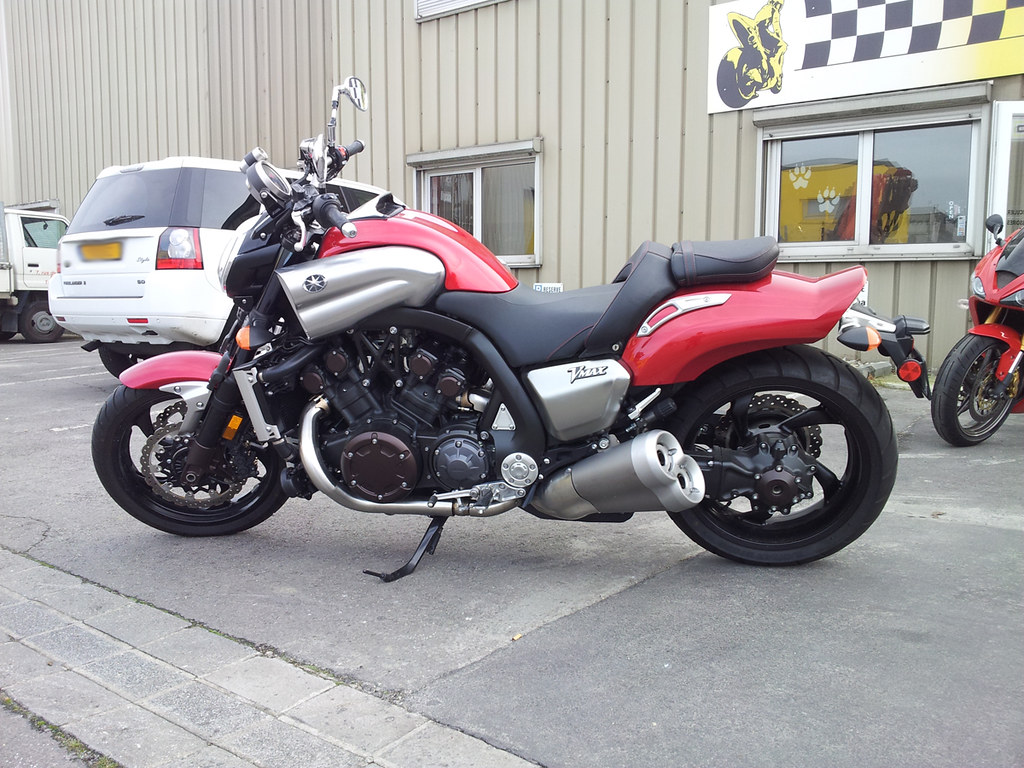motor bike: (93, 139, 856, 557)
